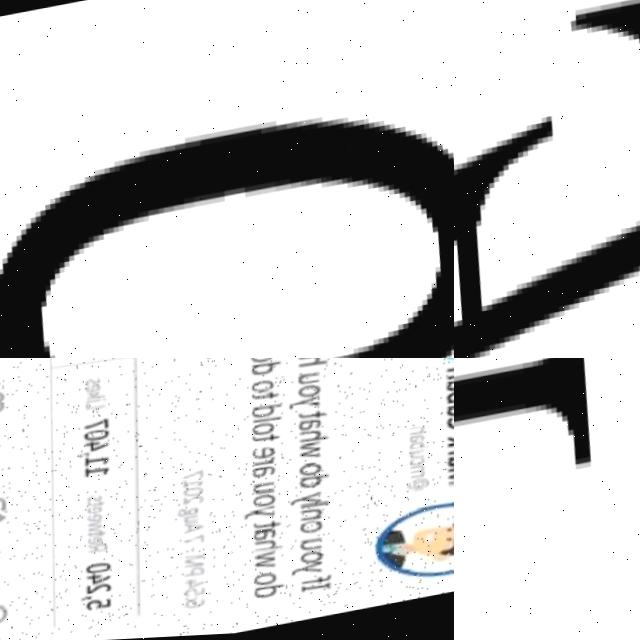0: (0, 79, 454, 358), (90, 562, 121, 579), (89, 429, 117, 446), (188, 489, 212, 502)
1: (88, 454, 121, 472), (90, 465, 121, 482), (188, 480, 212, 493)
2: (93, 583, 121, 600), (188, 497, 212, 510), (0, 583, 8, 597), (0, 465, 5, 479)
4: (88, 439, 119, 456), (93, 573, 121, 590), (191, 579, 215, 593), (0, 577, 8, 590)
5: (94, 600, 121, 614), (191, 588, 215, 601), (0, 478, 5, 491)
6: (191, 600, 215, 613)
7: (87, 419, 118, 436), (189, 537, 213, 551), (188, 473, 211, 486), (0, 567, 7, 581)
F: (454, 0, 640, 358)
I: (454, 358, 596, 472)
